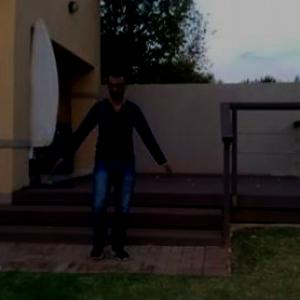land: (39, 53, 171, 283)
